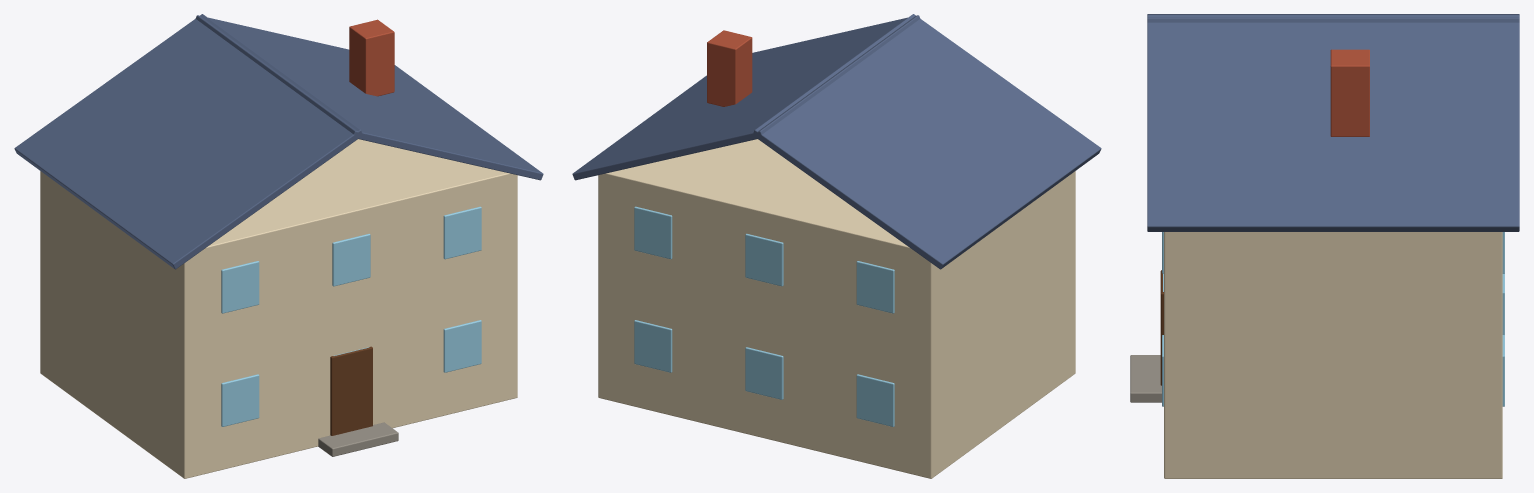
Rendered from house_two.glb.
The picture shows the model from 3 angles, left to right: view 1: azimuth 30°, elevation 25°; view 2: azimuth 150°, elevation 25°; view 3: azimuth 270°, elevation 25°; orthographic projection. The views are drawn at different scales.
Parts seen in each view (by area): view 1: house; view 2: house; view 3: house.
Boxes of the visible parts, <box> form: house: <box>14,14,543,478</box>; house: <box>572,14,1101,478</box>; house: <box>1130,14,1519,478</box>.
Bounding box in the file's own units: 8.9 × 7.5 × 6.9.
